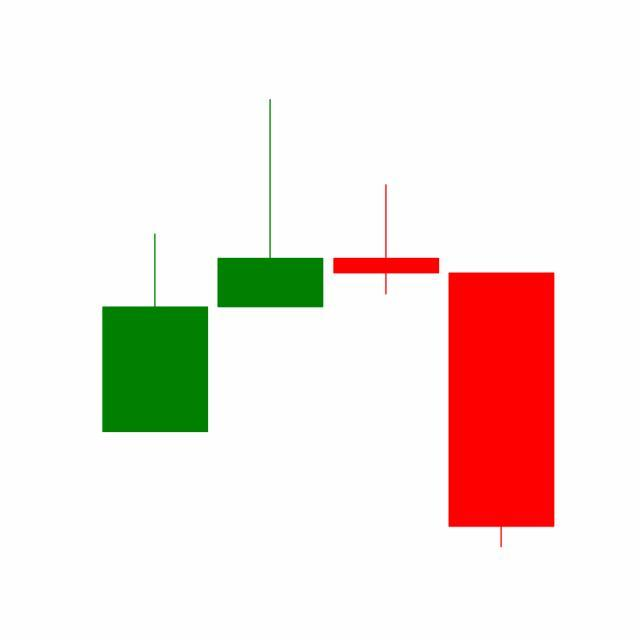Spinning Top: (329, 184, 445, 297)
